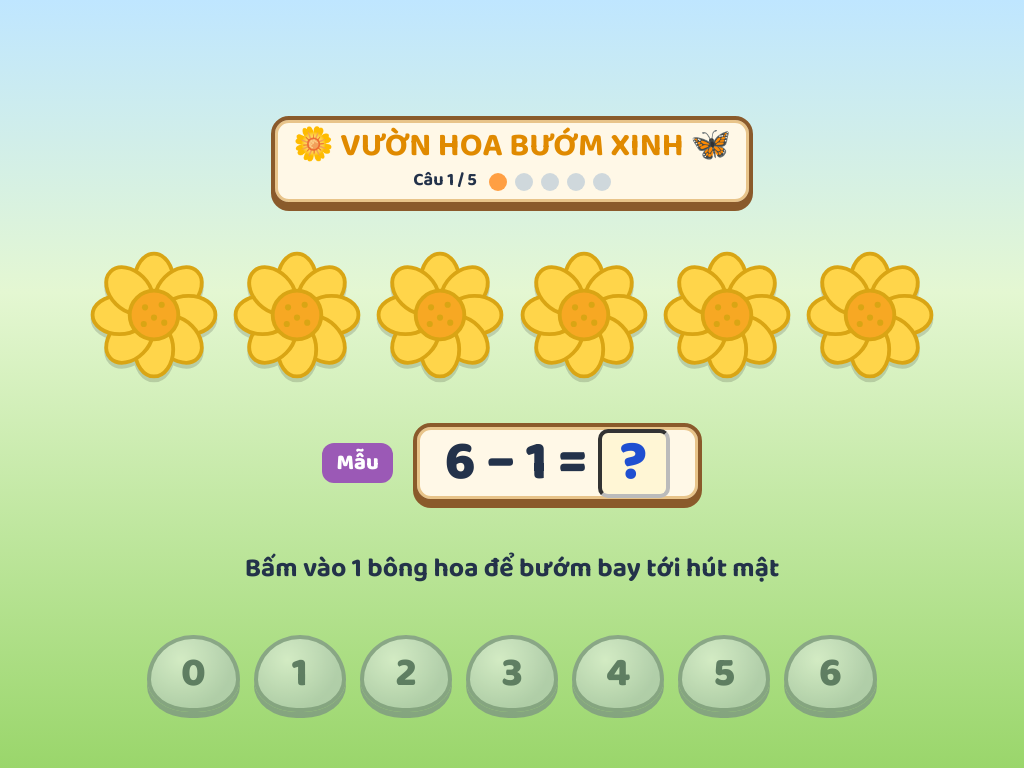
Test: bấm viên đá khi chưa bớt đủ hoa thì được nhắc
Click the button "5": (724, 673) left=678, top=635, right=770, bottom=712
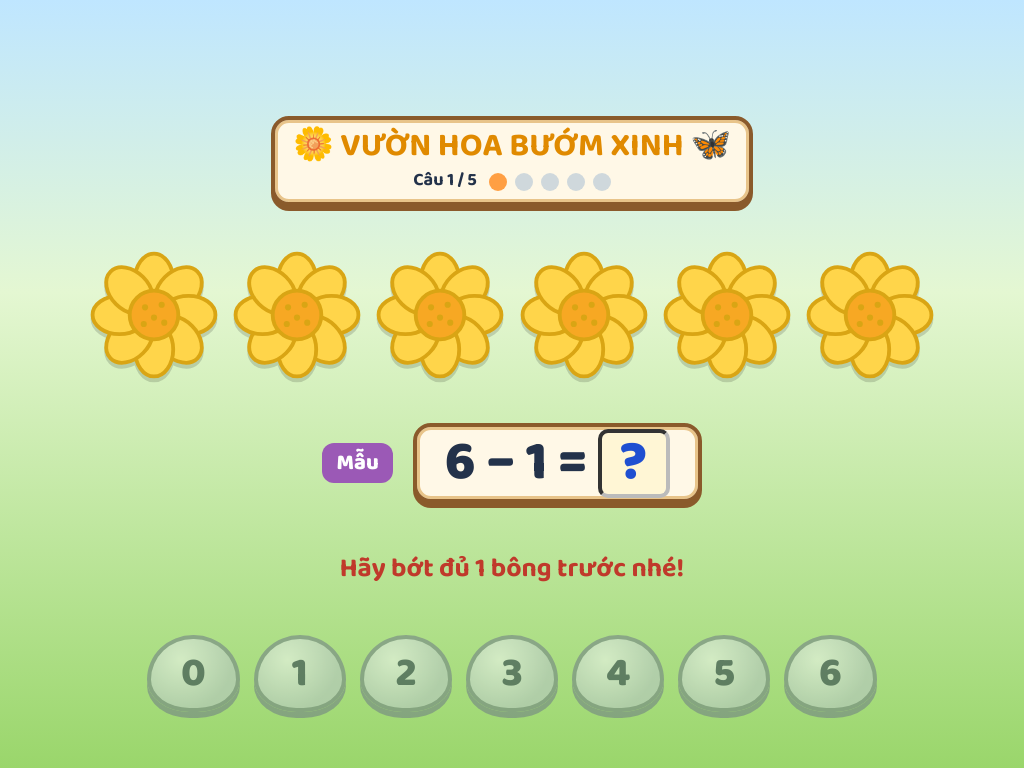
Expected: the text "Hãy bớt đủ 1 bông trước nhé!" is shown, left=340, top=547, right=684, bottom=590
